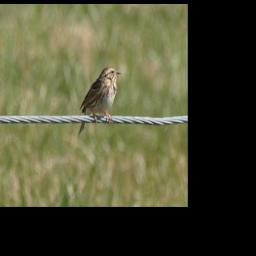Sparrow: (78, 64, 124, 136)
